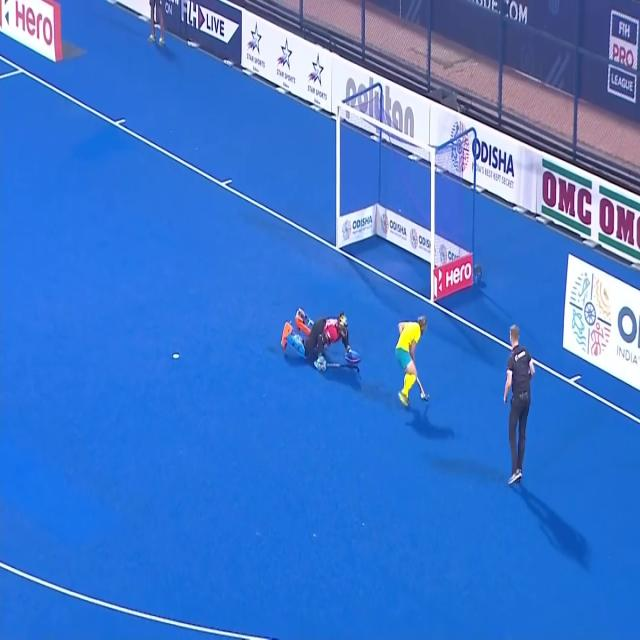ball: (418, 388, 428, 403)
